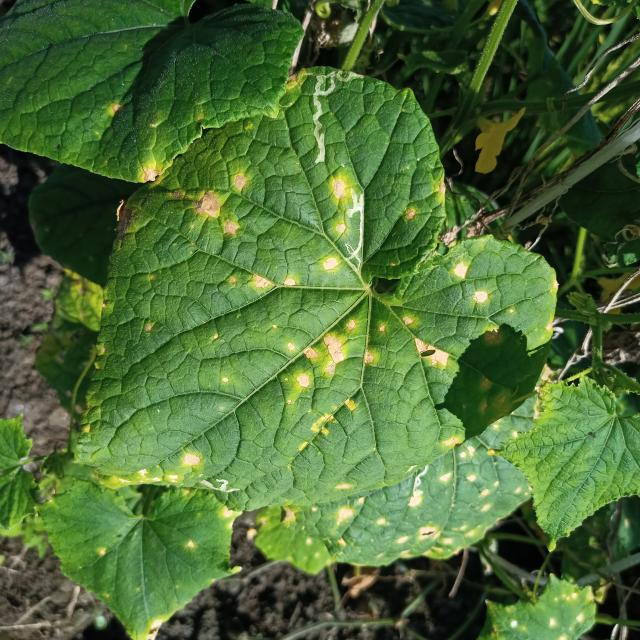disease_cucumber: (133, 148, 529, 483), (300, 463, 527, 558)
